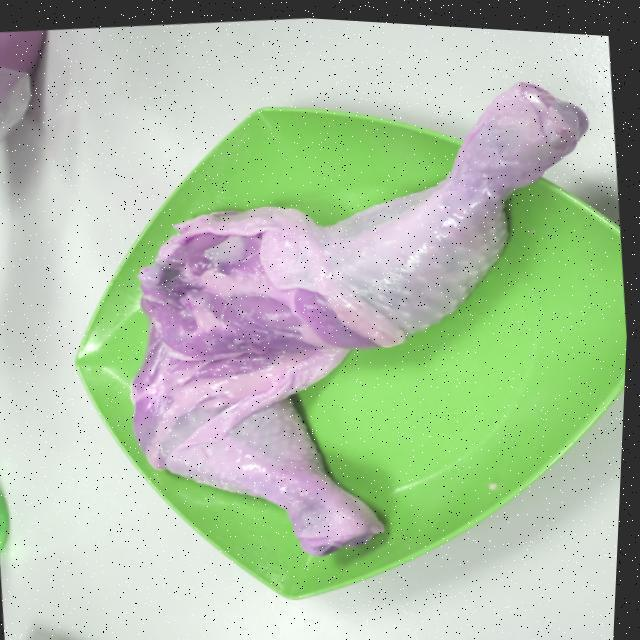quater: (122, 79, 578, 352), (126, 324, 392, 550)
